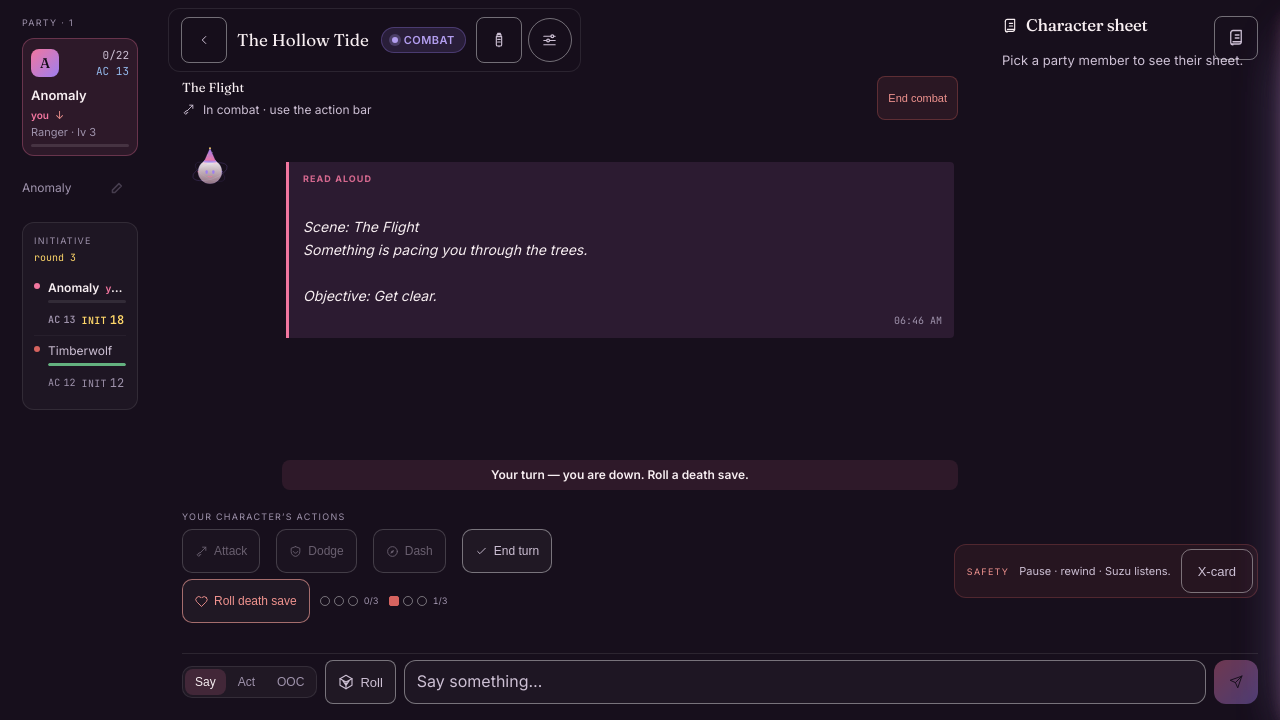
Test case: TAV-DEATHSAVE-SCENE-ADVANCE — death-save reads scene_advance like attack/endturn › an ordinary death-save roll with no scene_advance behaves exactly as before (regression)
Check: the text "The Hollow Tide" is shown, box [237,27,369,53]
Click the button "Roll death save": (246, 601) [182,579,310,623]
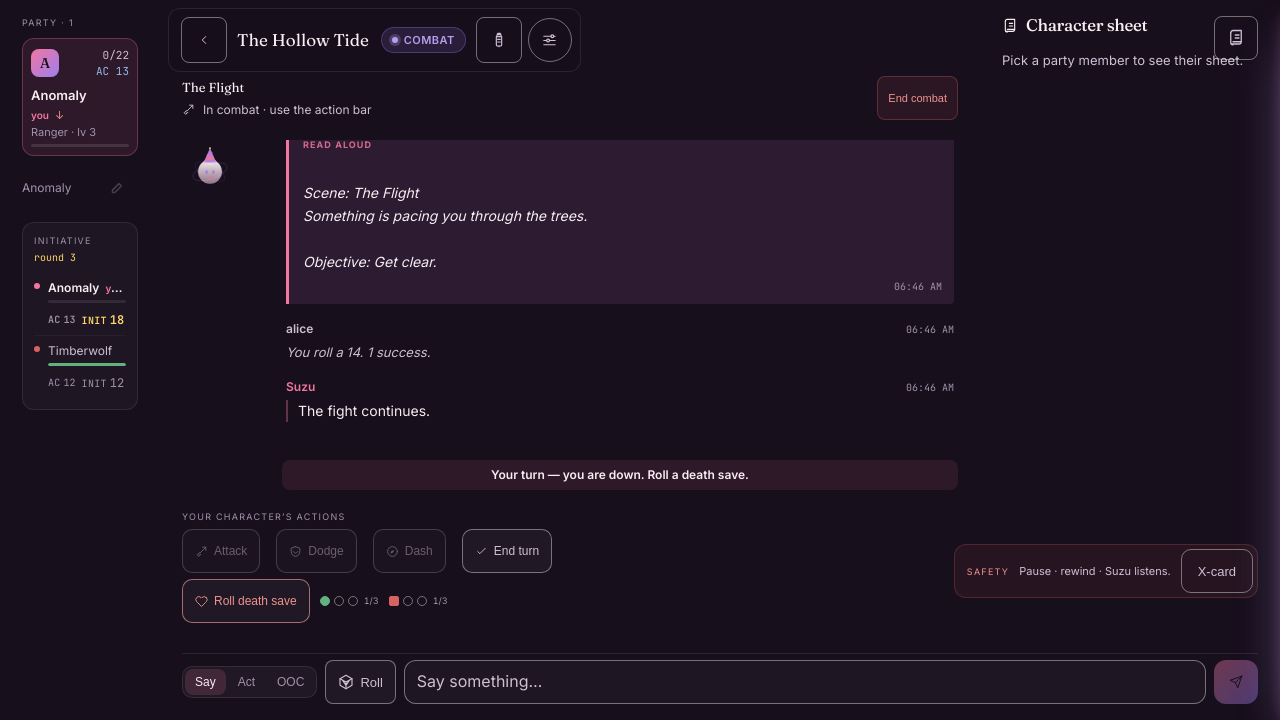
Check: the text "You roll a 14. 1 success." is shown, box [286,344,430,360]
